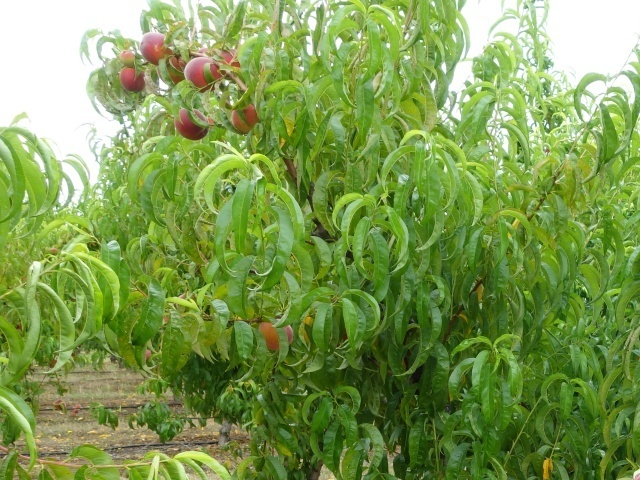peach: (178, 53, 223, 95), (172, 104, 217, 142), (253, 314, 295, 353), (136, 28, 178, 66), (226, 101, 264, 137), (207, 46, 246, 80), (114, 63, 151, 95), (114, 47, 144, 71)
